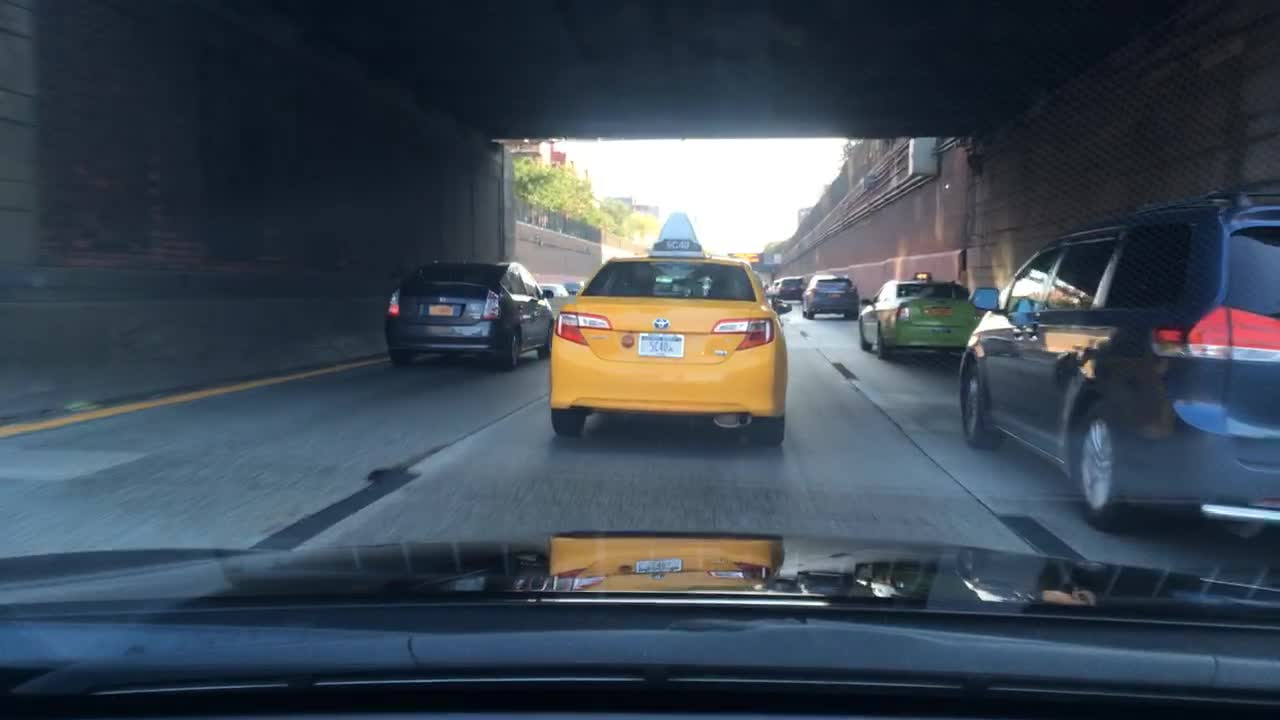car: (955, 189, 1279, 540), (546, 207, 793, 437), (383, 260, 555, 369), (857, 270, 980, 359), (800, 272, 857, 320), (533, 280, 565, 309), (773, 273, 805, 299), (563, 278, 584, 293), (766, 277, 778, 297)
